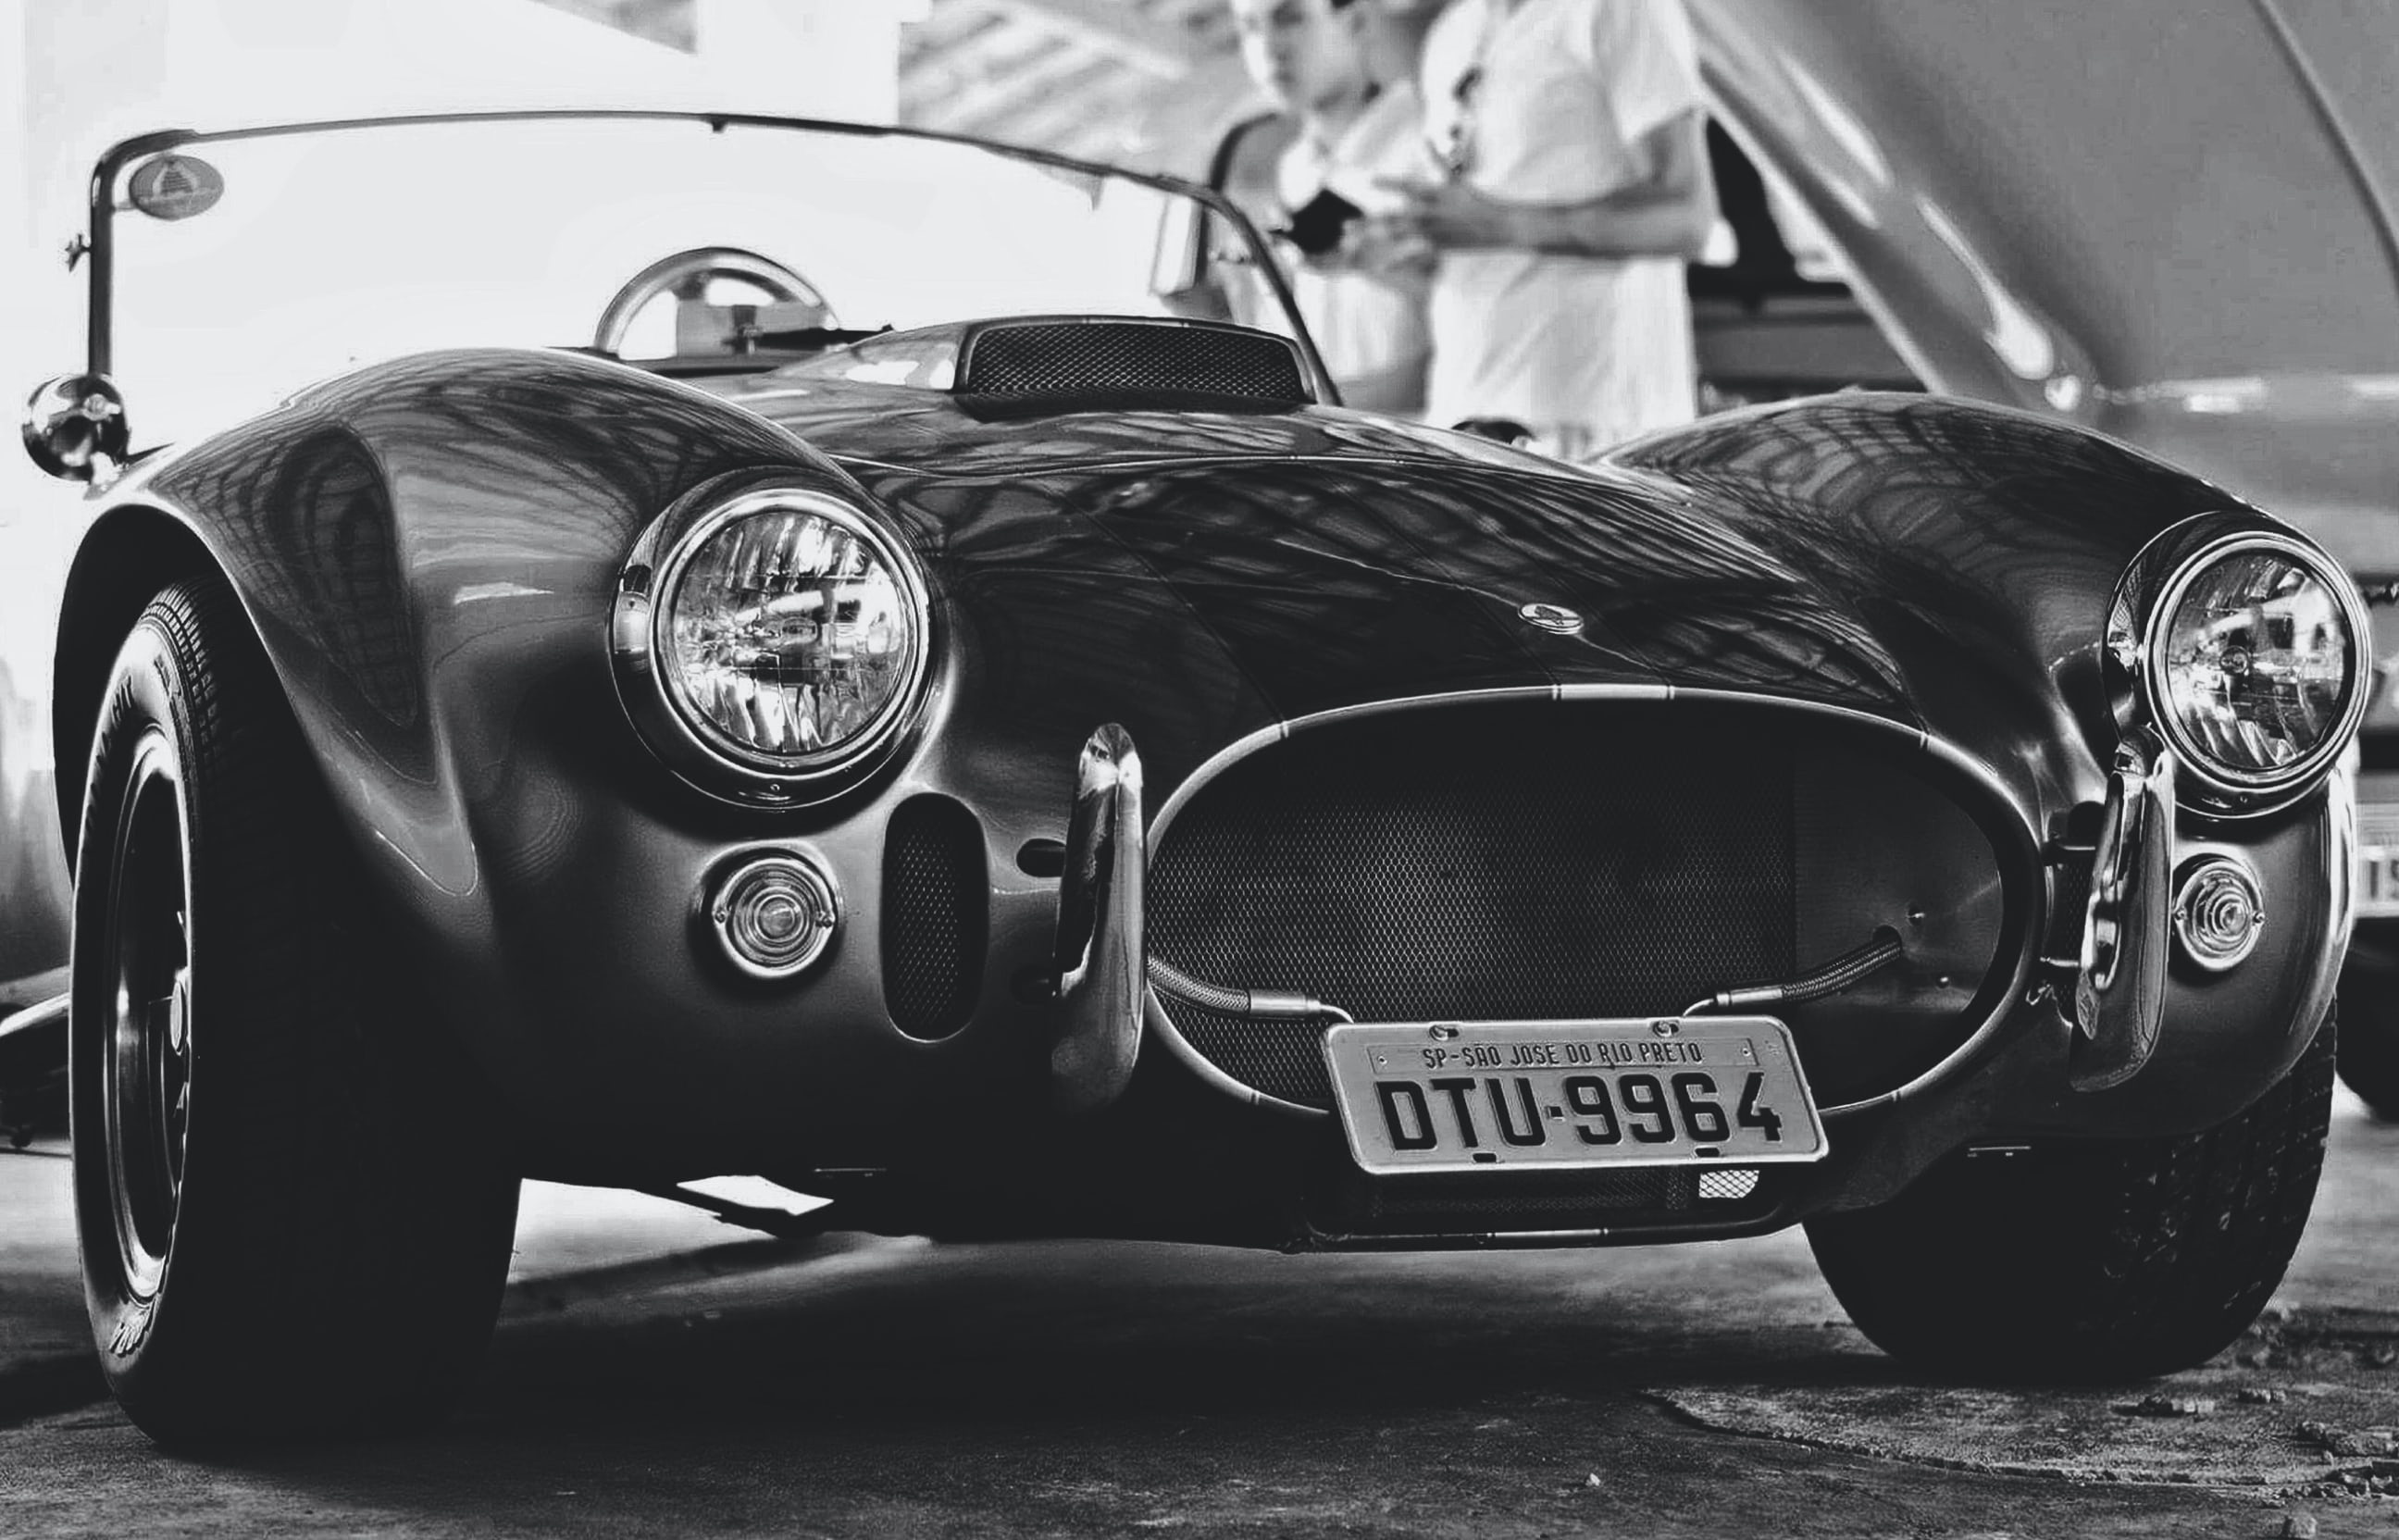plaka: (1323, 1011, 1832, 1175)
